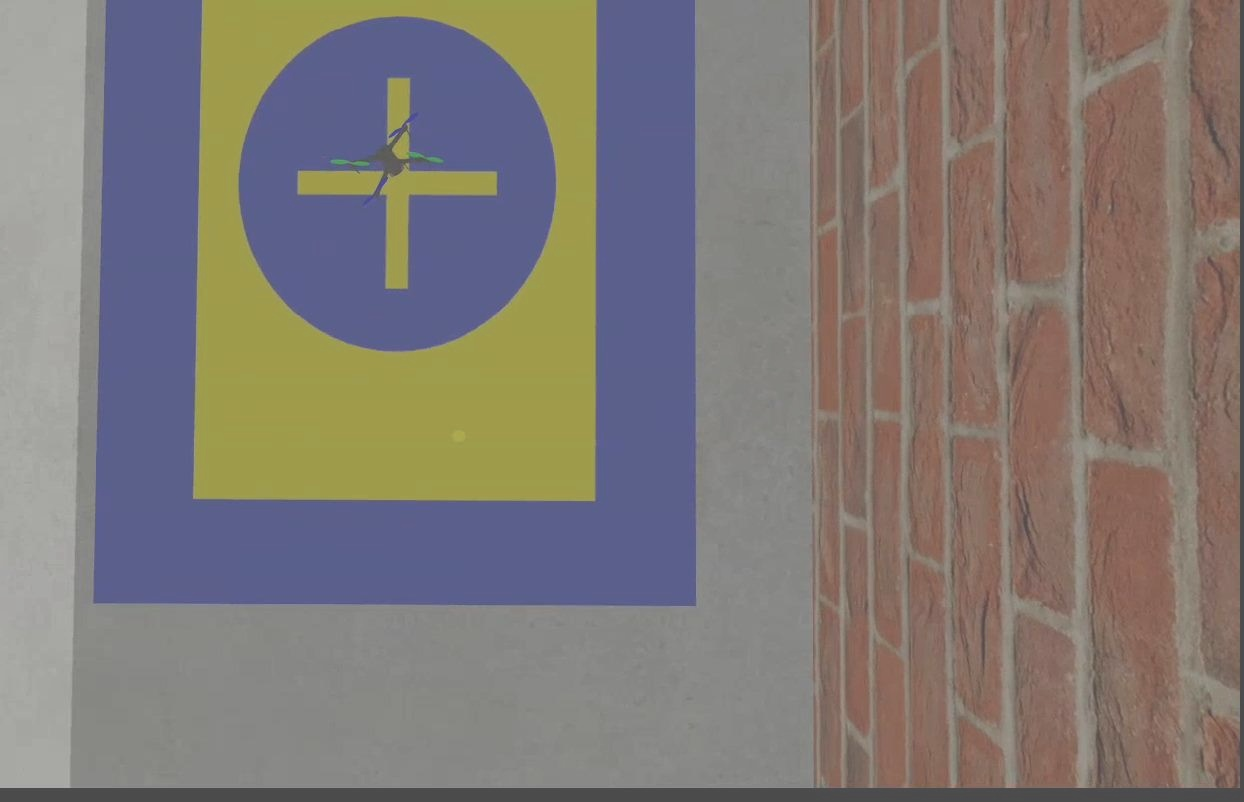large_base: (93, 1, 698, 608)
